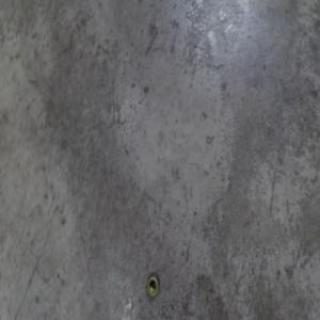Nuttrack_idkeyframe: (146, 271, 158, 299)
